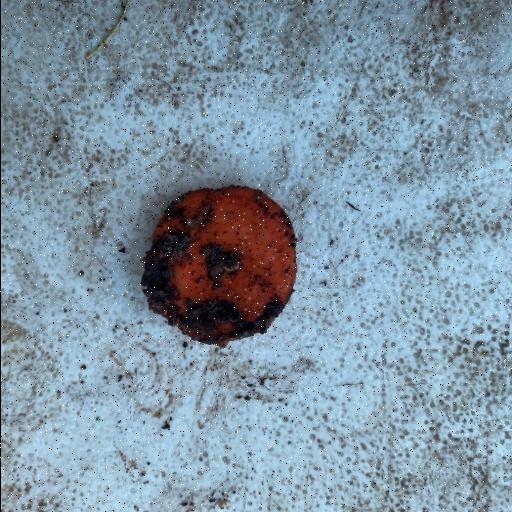Waste: (138, 183, 298, 348)
